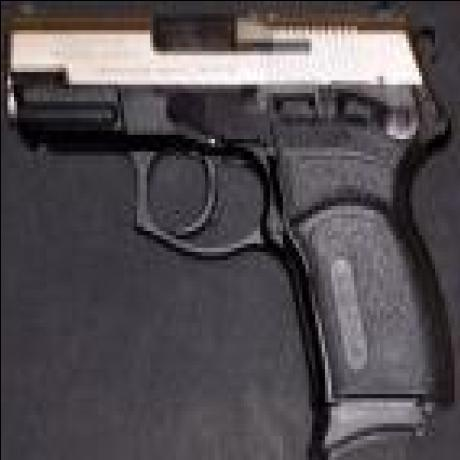weapon: (6, 4, 456, 460)
